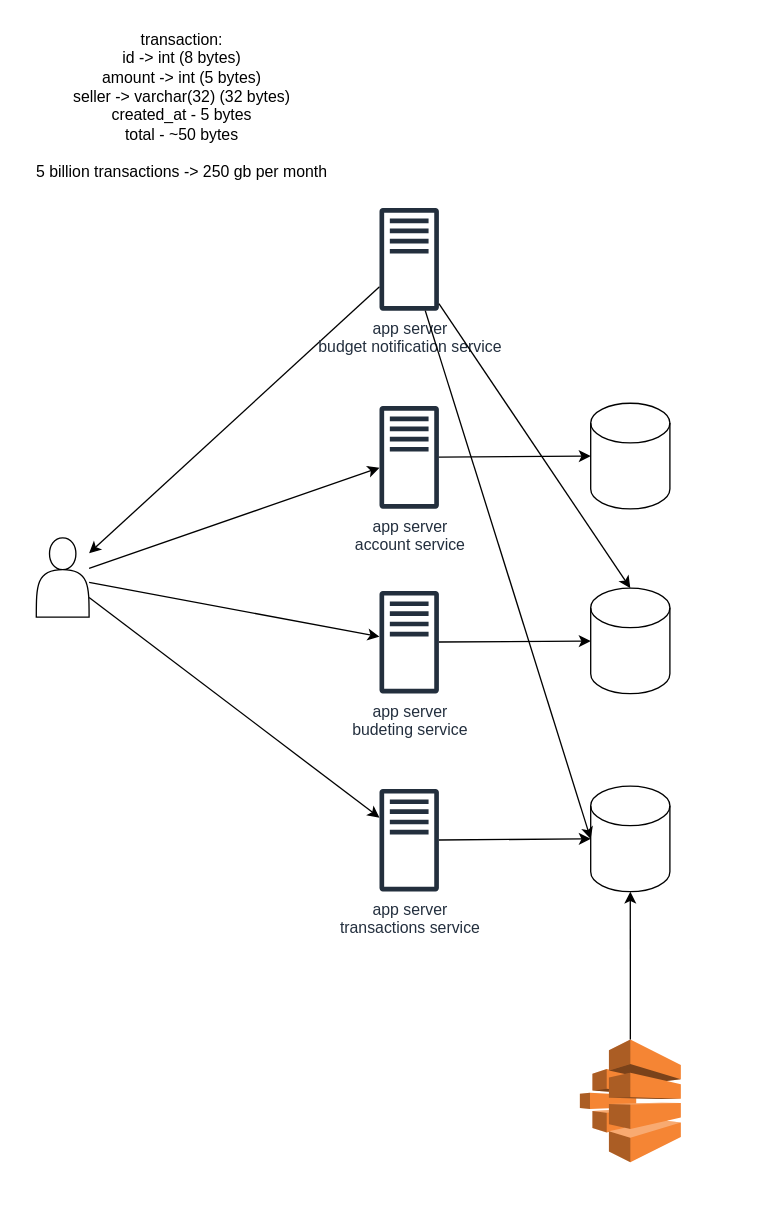
Image size: 771x1212. Some labels were removed from this diagram. Each missing label, with the box of its shape:
batch to update transactions daily: (579, 1038, 681, 1162)
user: (35, 537, 89, 617)
